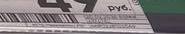1d: (0, 11, 79, 22)
